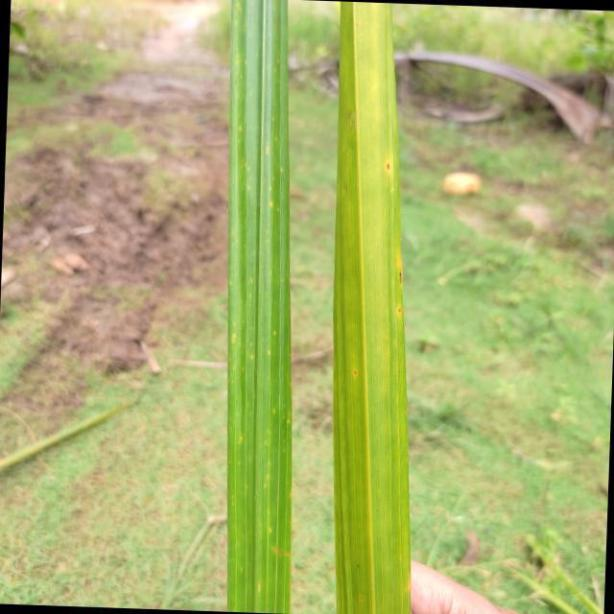nitrogen: (333, 0, 411, 614), (222, 0, 290, 614)
